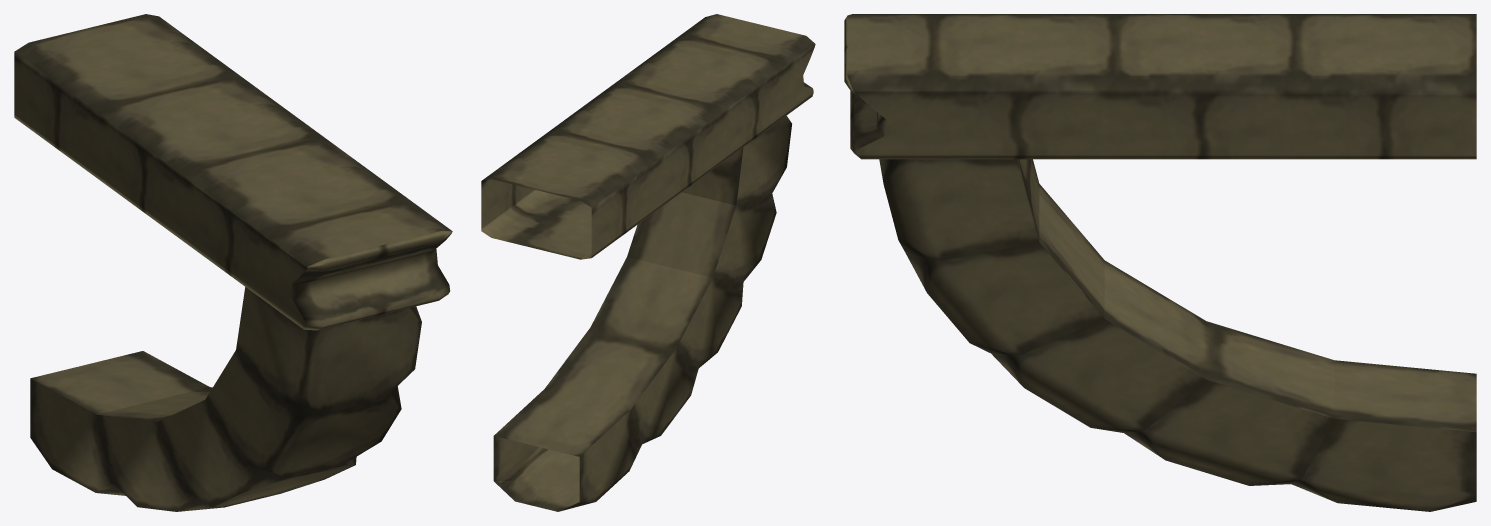
Rendered from CeilingArch.fbx.
The picture shows the model from 3 angles, left to right: view 1: azimuth 30°, elevation 25°; view 2: azimuth 150°, elevation 25°; view 3: azimuth 270°, elevation 25°; orthographic projection. The views are drawn at different scales.
Parts seen in each view (by area): view 1: pPlane3, pPipe2; view 2: pPipe2, pPlane3; view 3: pPipe2, pPlane3.
Boxes of the visible parts, <box> form: pPlane3: <box>14,14,452,330</box>; pPipe2: <box>30,287,421,511</box>; pPipe2: <box>493,116,791,511</box>; pPlane3: <box>481,14,815,259</box>; pPipe2: <box>879,159,1476,511</box>; pPlane3: <box>844,14,1476,159</box>.
Size of the model in its own units: 0.4277 by 1.17 by 1.52.
